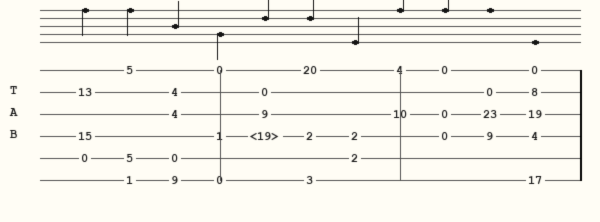0: (81, 152, 92, 164), (171, 152, 182, 164), (216, 174, 227, 186), (216, 64, 227, 76), (261, 86, 272, 98), (441, 108, 452, 120), (441, 64, 452, 76), (441, 130, 452, 142), (486, 86, 497, 98), (531, 64, 542, 76)
1: (126, 174, 137, 186), (216, 130, 227, 142)
10: (393, 108, 411, 120)
13: (78, 86, 96, 98)
15: (78, 130, 96, 142)
17: (528, 174, 546, 186)
19: (528, 108, 546, 120)
2: (306, 130, 317, 142), (351, 130, 362, 142), (351, 152, 362, 164)
20: (303, 64, 321, 76)
23: (483, 108, 501, 120)
3: (306, 174, 317, 186)
4: (171, 86, 182, 98), (171, 108, 182, 120), (396, 64, 407, 76), (531, 130, 542, 142)
5: (126, 152, 137, 164), (126, 64, 137, 76)
8: (531, 86, 542, 98)
9: (171, 174, 182, 186), (261, 108, 272, 120), (486, 130, 497, 142)
harmonic: (250, 130, 284, 142)
